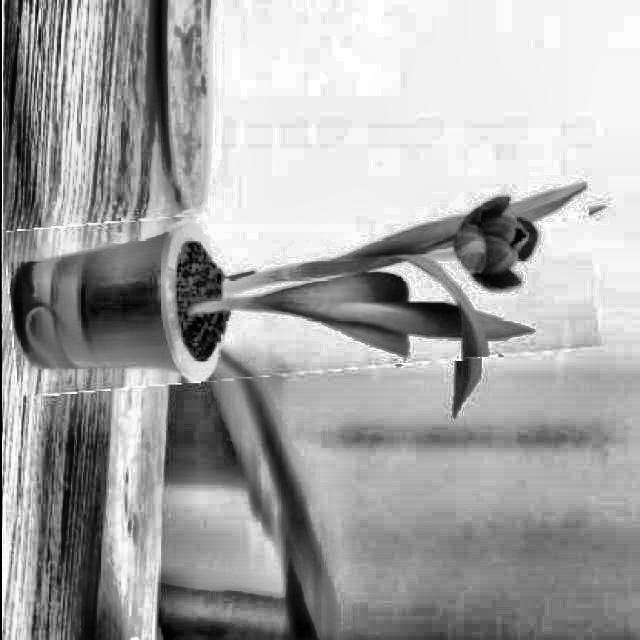plants: (4, 193, 596, 384)
